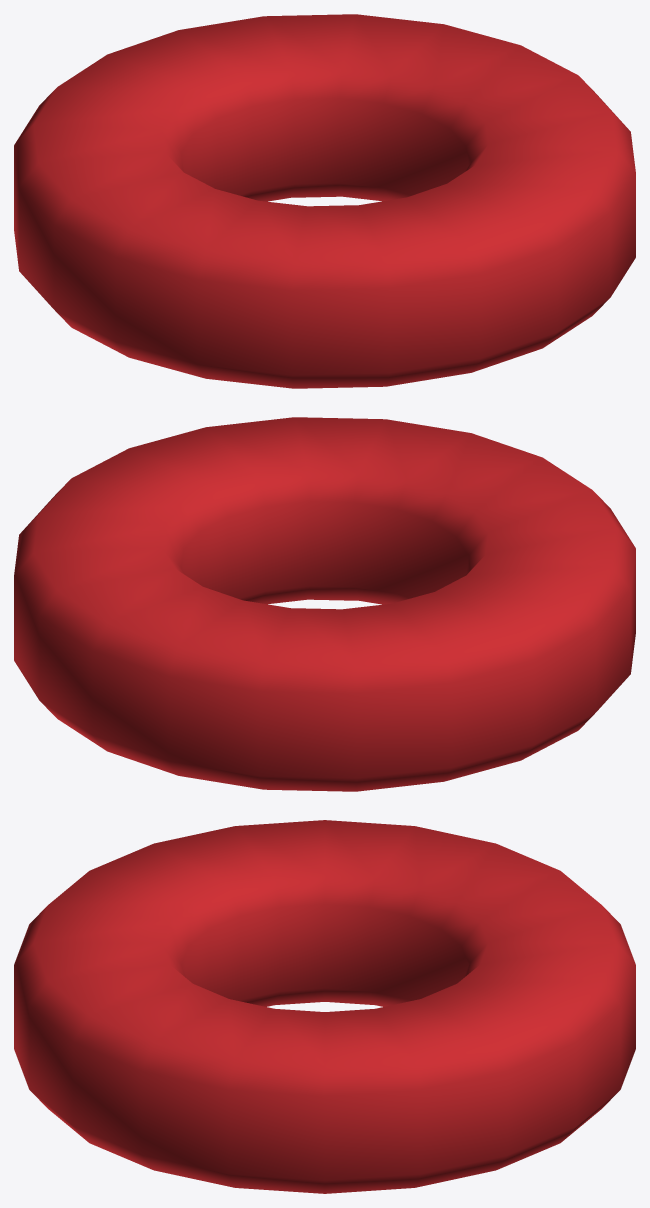
Rendered from tube_candy_01.fbx.
The picture shows the model from 3 angles, top to bottom: view 1: azimuth 30°, elevation 25°; view 2: azimuth 150°, elevation 25°; view 3: azimuth 270°, elevation 25°; orthographic projection.
Visible parts, largest first — view 1: tube_candy_01; view 2: tube_candy_01; view 3: tube_candy_01.
Part boxes in pixels (x1=…): tube_candy_01: x1=14, y1=14, x2=635, y2=388; tube_candy_01: x1=14, y1=417, x2=635, y2=791; tube_candy_01: x1=14, y1=820, x2=635, y2=1193.
Bounding box in the file's own units: 0.701 × 0.1588 × 0.701.
